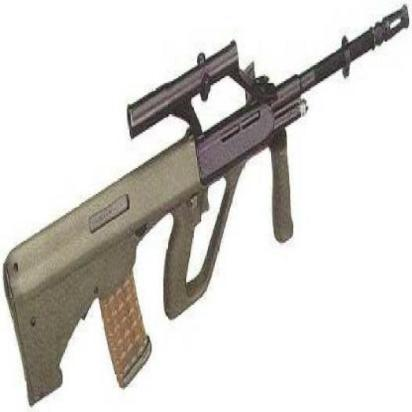Gun: (3, 0, 410, 411)
